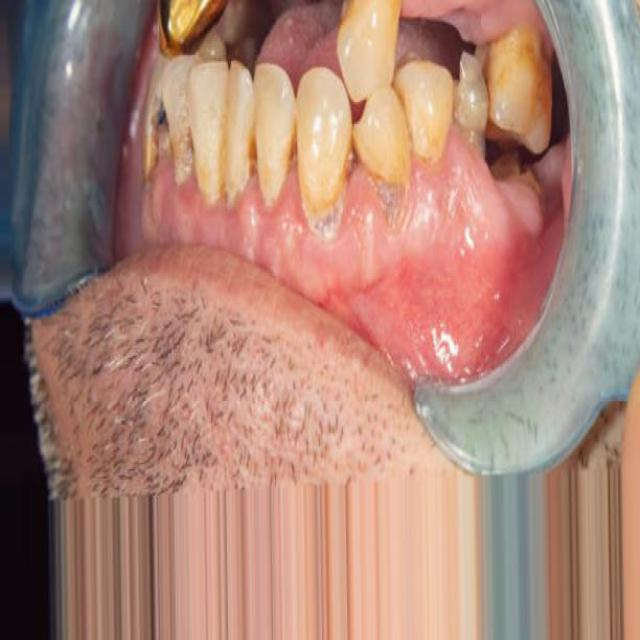caries: (134, 89, 196, 191), (366, 160, 416, 240), (449, 48, 490, 136)
